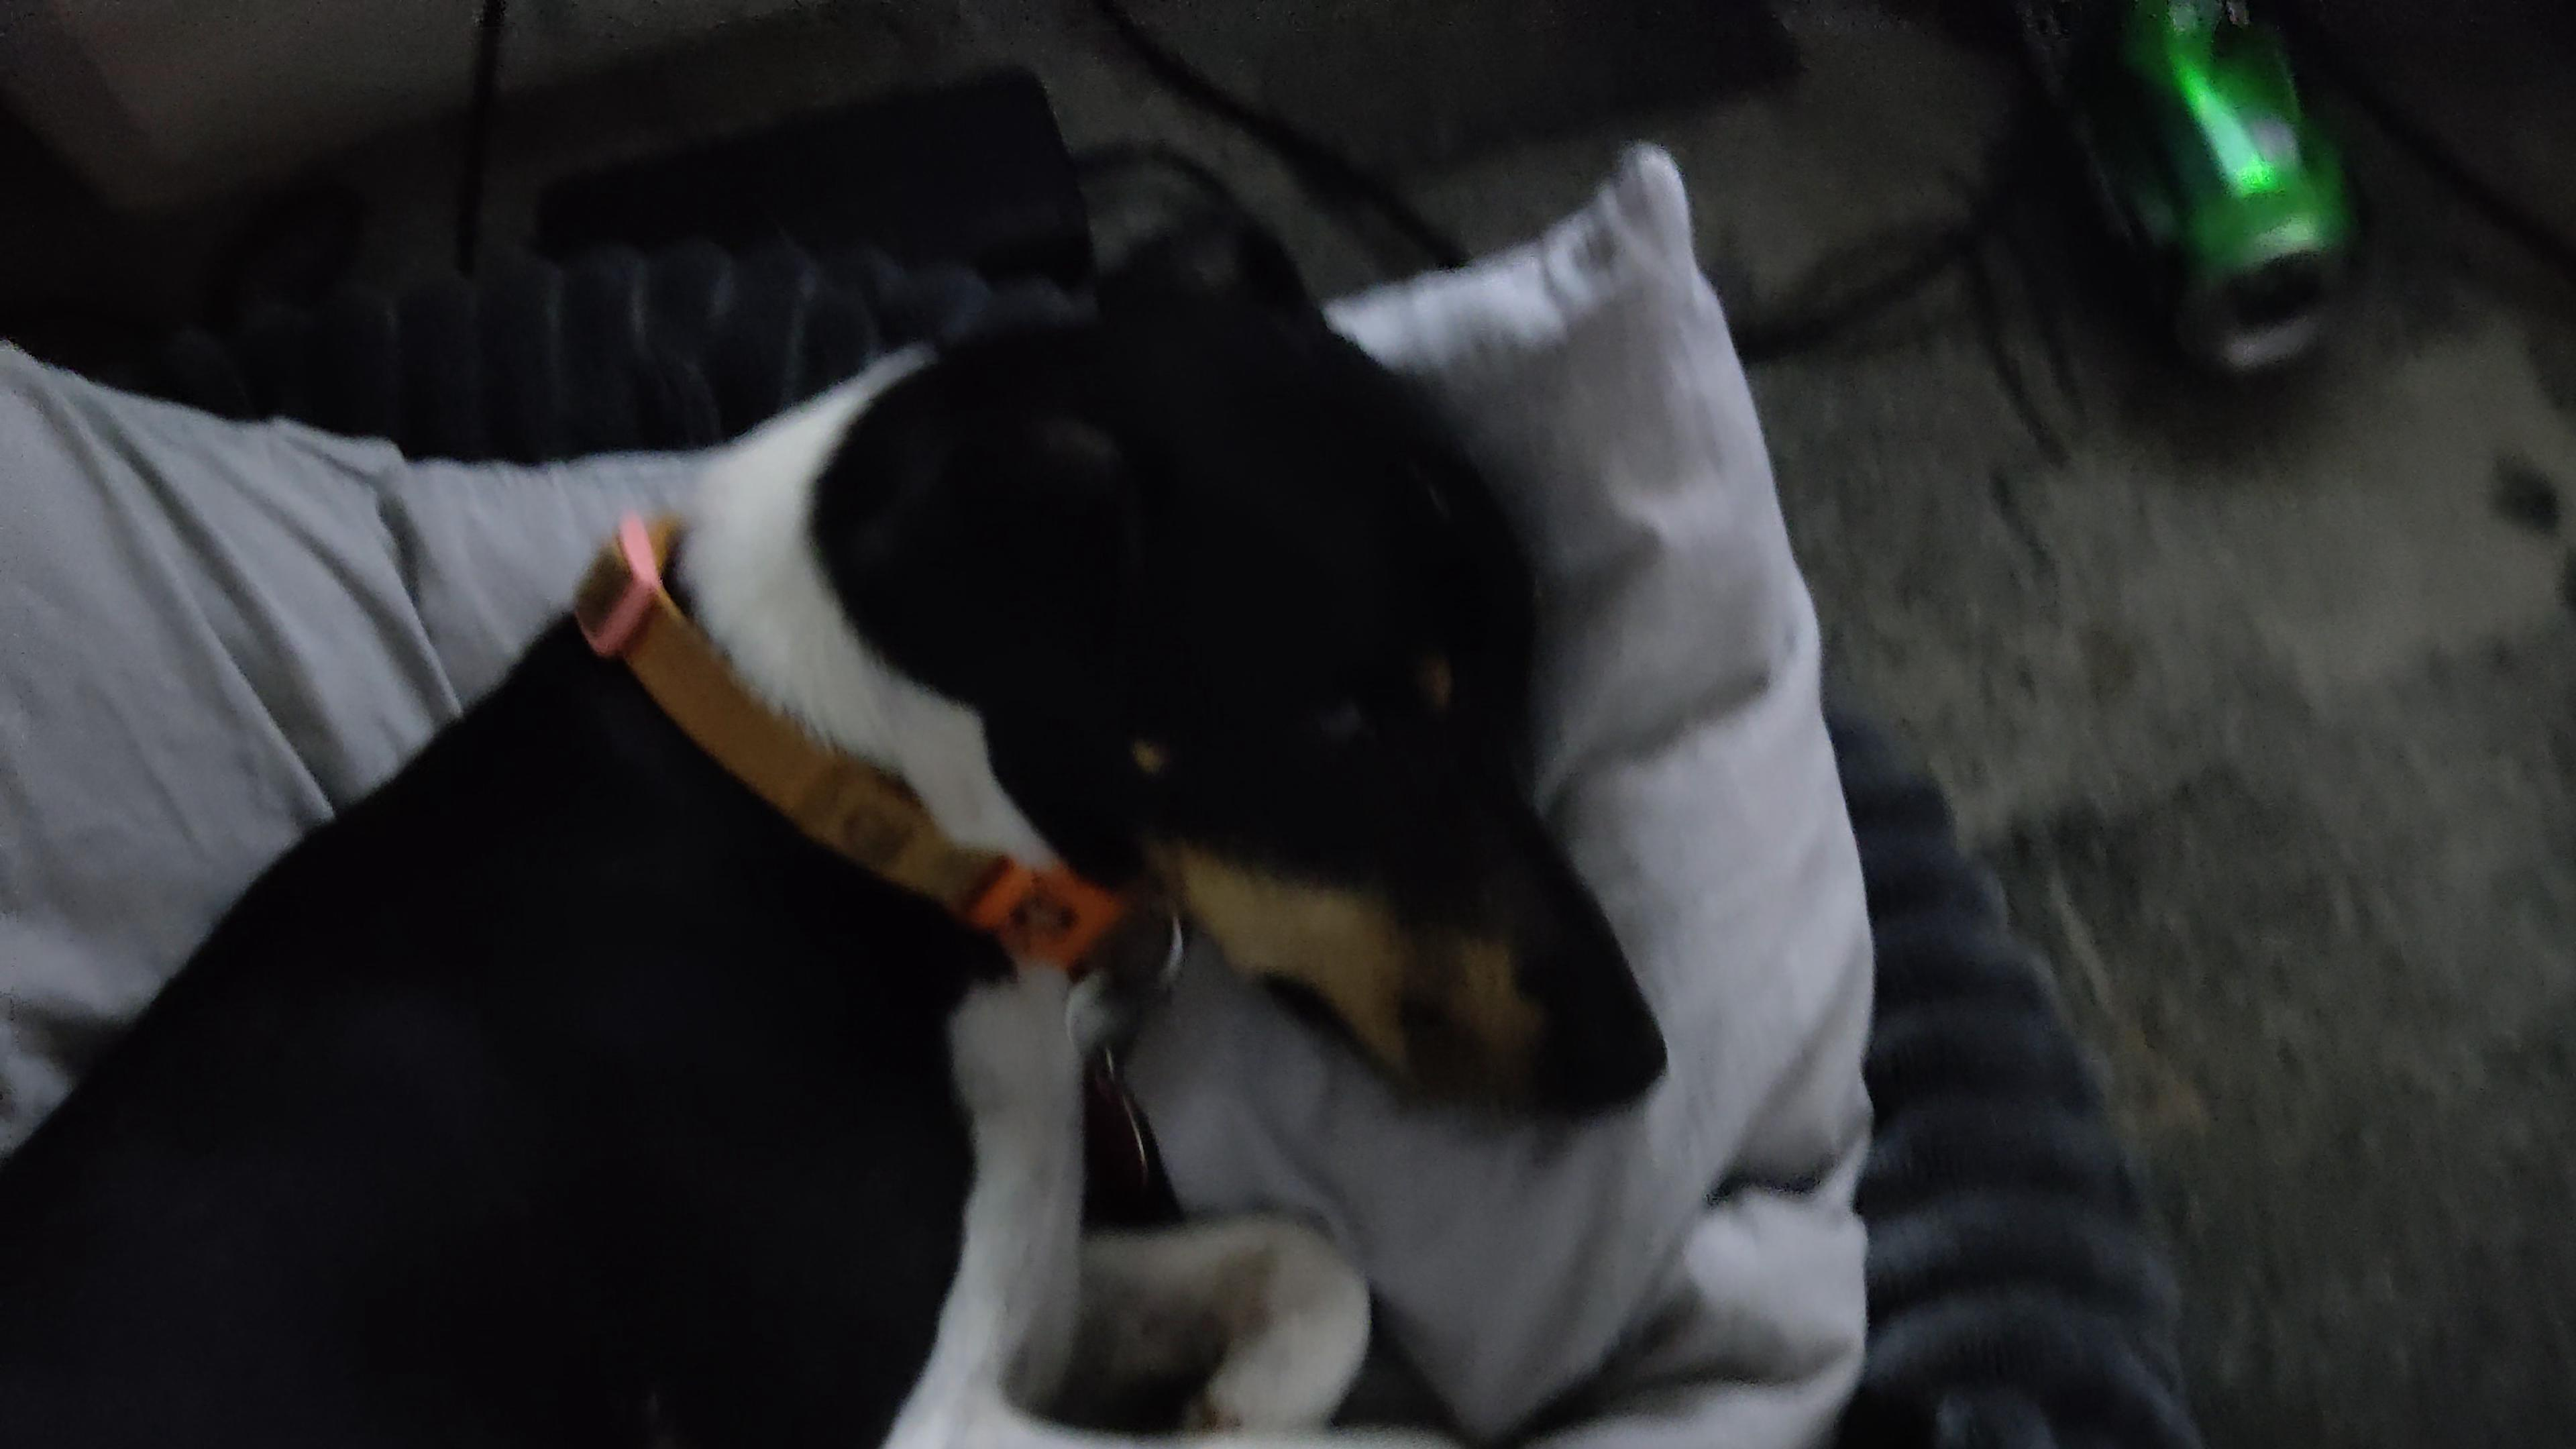Dog: (0, 195, 1693, 1445)
